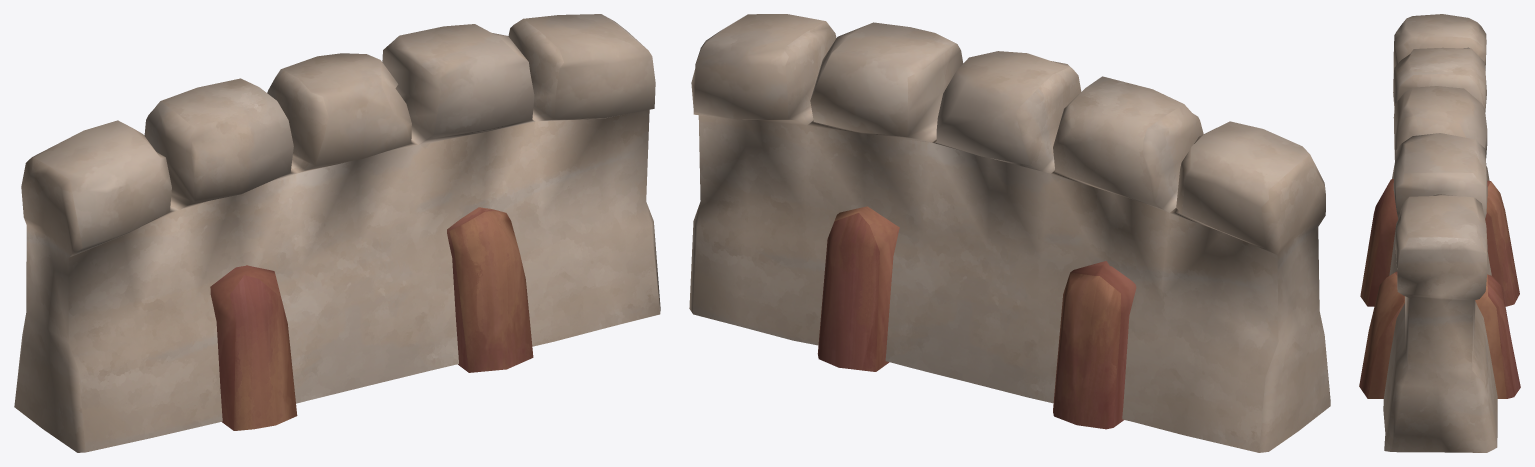
File: BRUME_WallLong.FBX
The picture shows the model from 3 angles, left to right: view 1: azimuth 30°, elevation 25°; view 2: azimuth 150°, elevation 25°; view 3: azimuth 270°, elevation 25°; orthographic projection. The views are drawn at different scales.
Parts seen in each view (by area): view 1: BRUME_WallLong; view 2: BRUME_WallLong; view 3: BRUME_WallLong.
Part boxes in pixels (box(x1,y1,x2,y2)): BRUME_WallLong: box(14, 14, 660, 452); BRUME_WallLong: box(689, 14, 1330, 452); BRUME_WallLong: box(1359, 14, 1520, 452).
Size of the model in its own units: 410 by 197 by 121.
